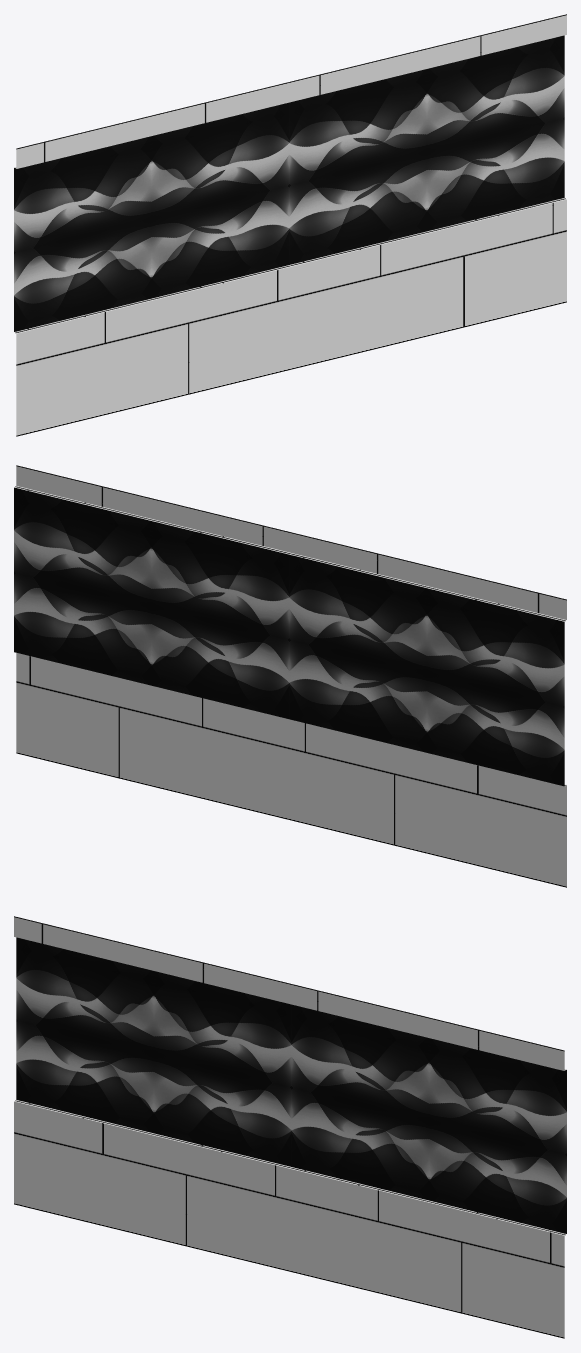
File: WallNiche01_5_700x350cm.FBX
3 renders of one model, top to bottom at view 1: azimuth 30°, elevation 25°; view 2: azimuth 150°, elevation 25°; view 3: azimuth 330°, elevation 25°, orthographic.
Visible parts, largest first — view 1: WallNiche01_5_700x350cm; view 2: WallNiche01_5_700x350cm; view 3: WallNiche01_5_700x350cm.
Boxes of the visible parts, x1=… form: WallNiche01_5_700x350cm: x1=14, y1=14, x2=566, y2=436; WallNiche01_5_700x350cm: x1=14, y1=465, x2=566, y2=887; WallNiche01_5_700x350cm: x1=14, y1=916, x2=566, y2=1338.
Size of the model in its own units: 700 by 350 by 5.
